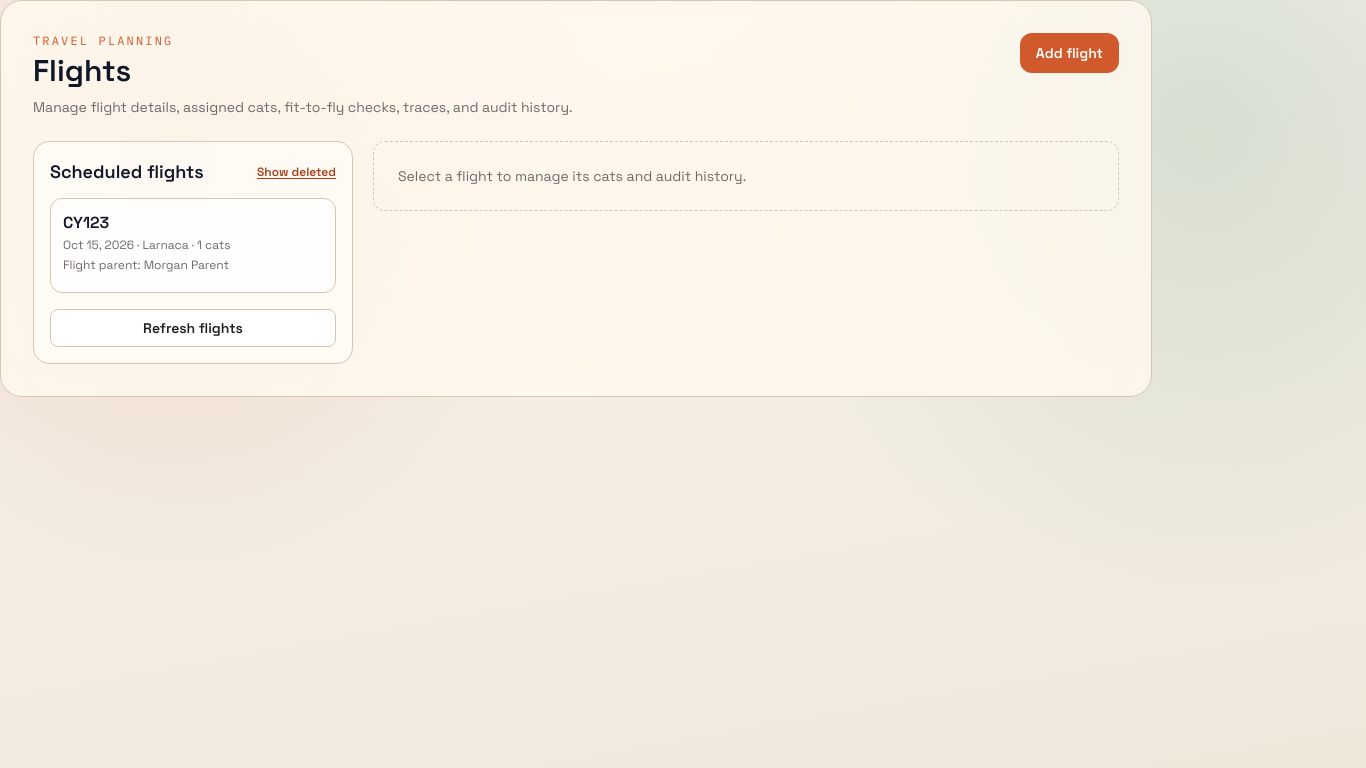
Test: FlightsClient › opens a flight with assigned cat checks and audit history
This screenshot has width=1366, height=768.
What coordinates should you click on to do the following:
click the button "CY123"
I would click on:
 (193, 242)
Its box is [63,211,323,273].
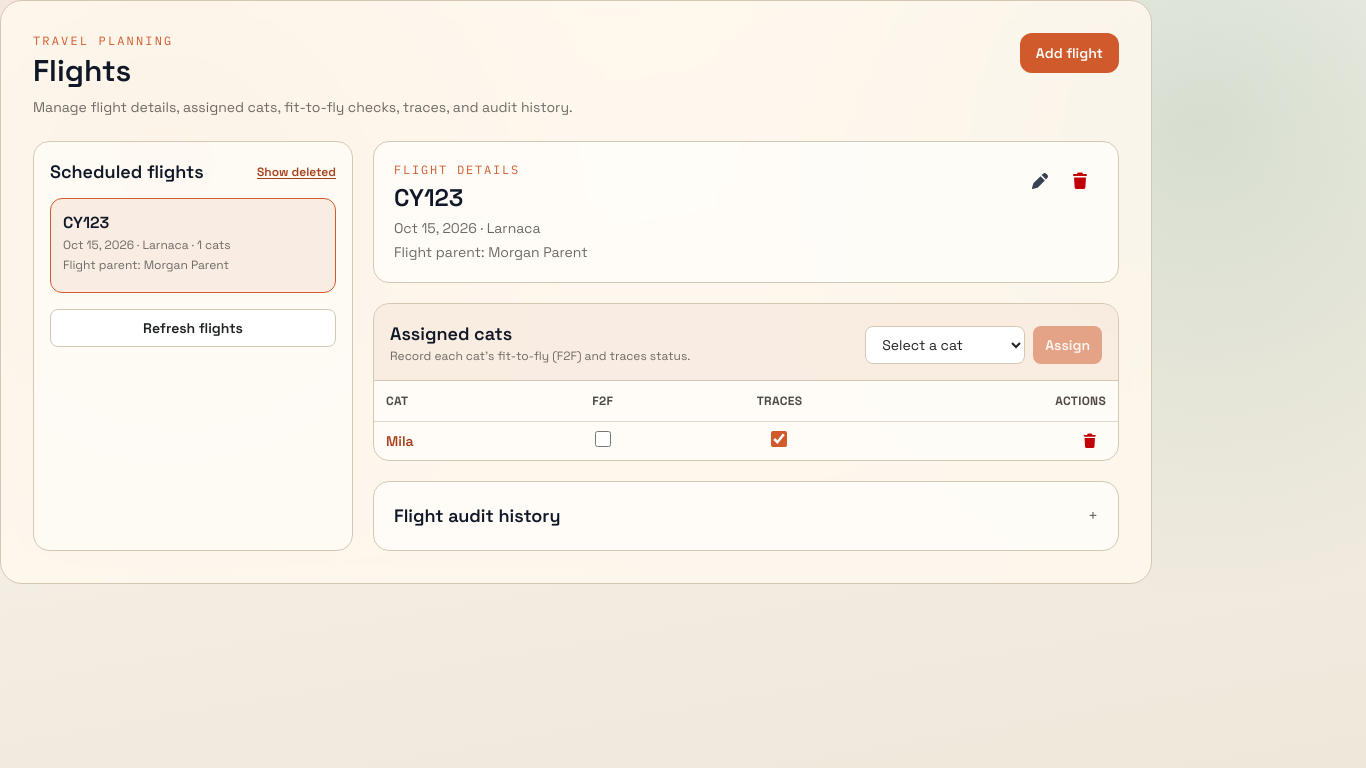
Expected: the heading "CY123" is shown, [394,182,463,213]
Expected: the checkbox named "F2F done for Mila" is not checked, [595,430,611,446]
Expected: the checkbox named "Traces done for Mila" is checked, [772,430,788,446]
What coordinates should you click on to do the following:
click the button "Flight audit history +"
I would click on:
 (477, 516)
Its box is [394,502,1098,530].
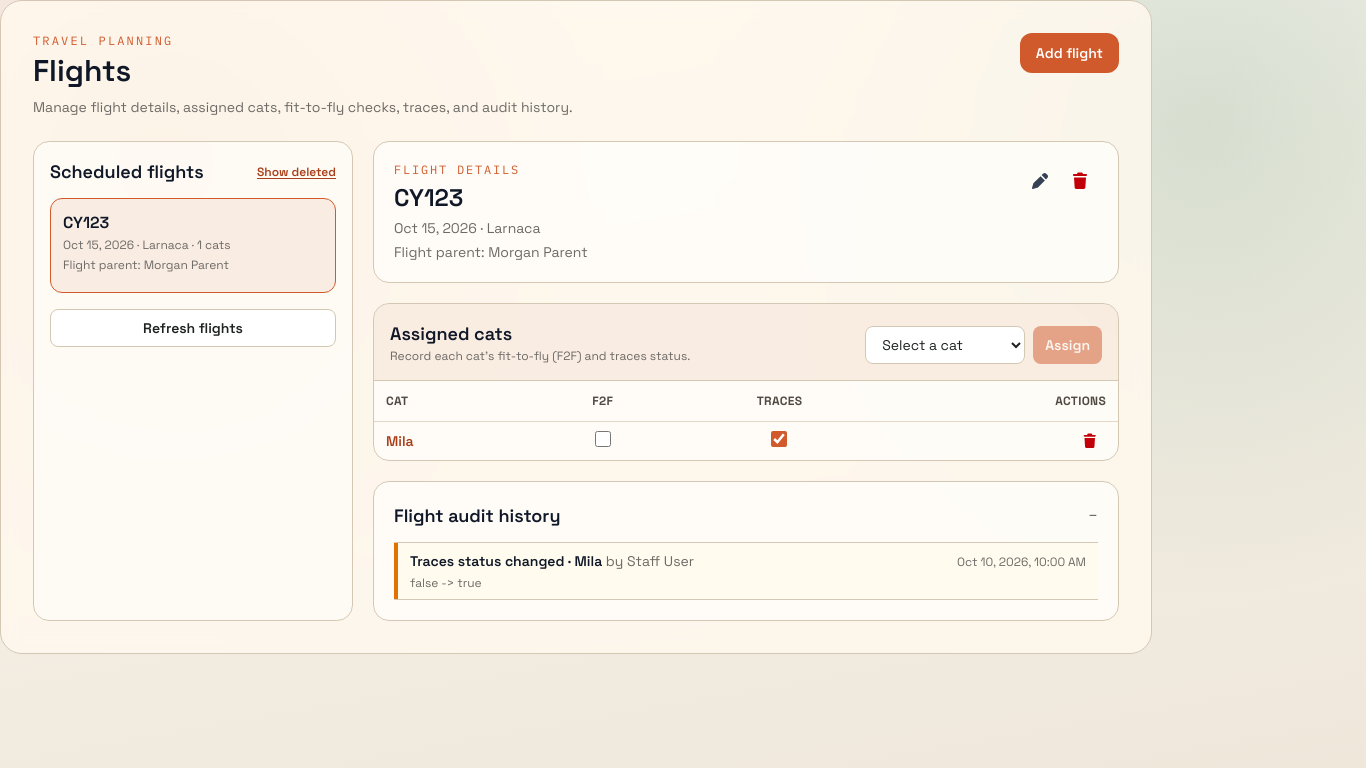
Expected: the text "Traces status changed · Mila" is shown, [410,551,694,571]
